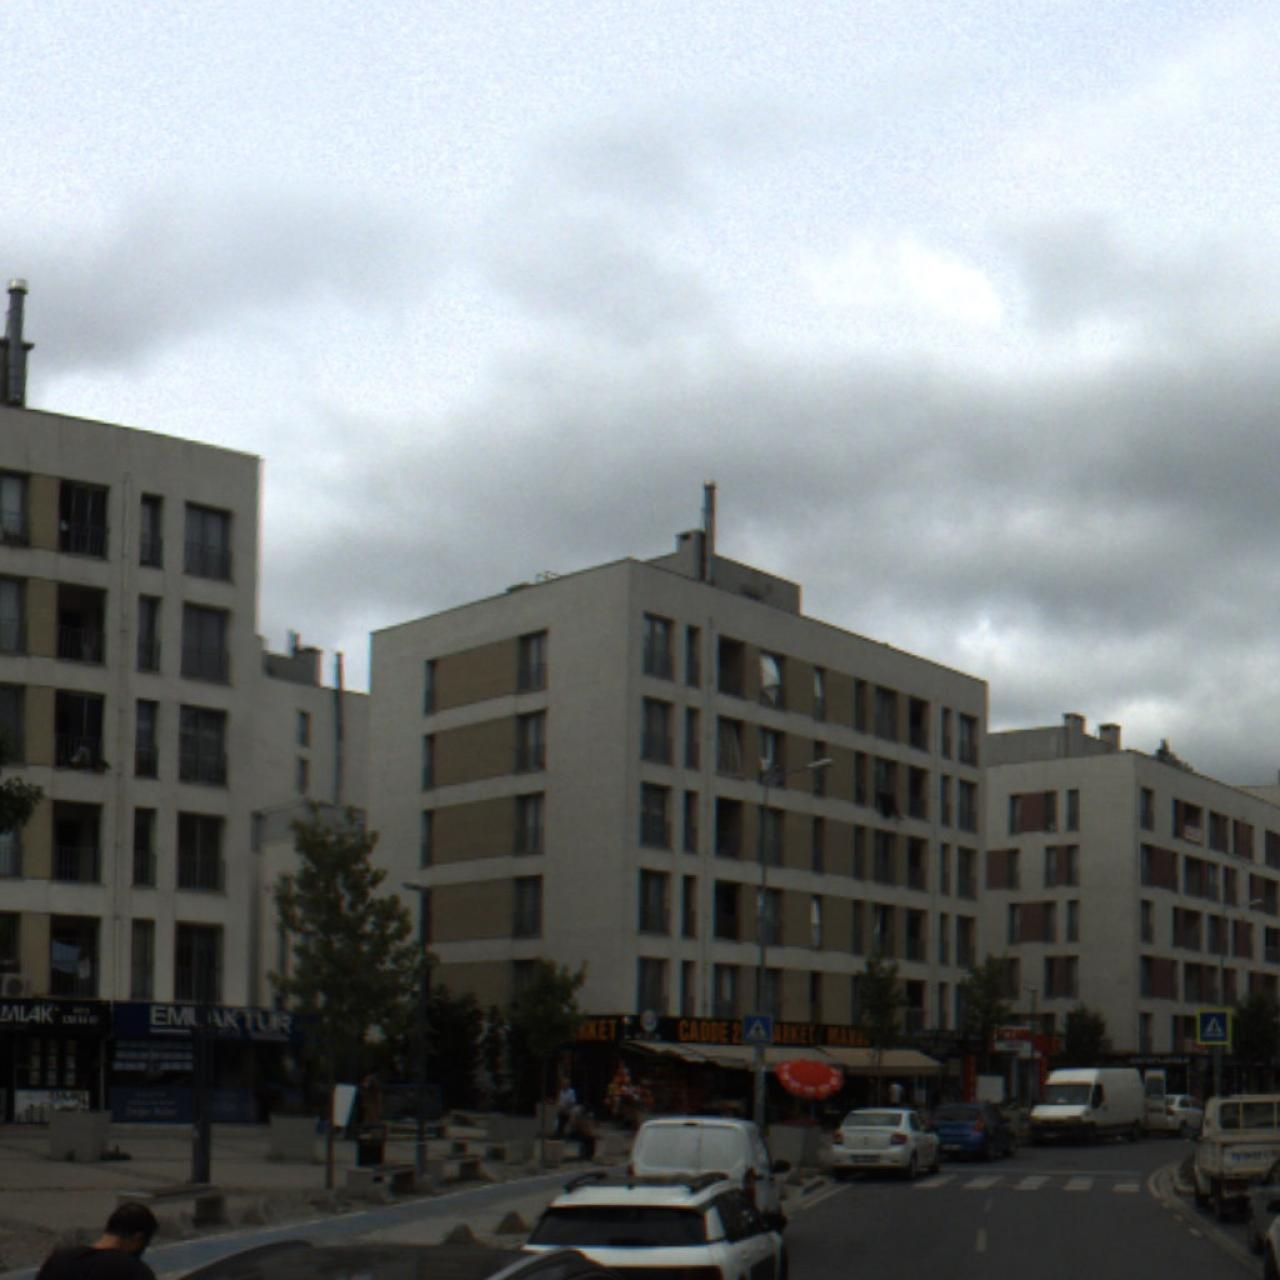SignStore: (577, 1008, 873, 1049), (115, 1001, 300, 1042), (1, 999, 110, 1035), (911, 1029, 986, 1058), (986, 1027, 1032, 1050), (1126, 1053, 1197, 1067)
